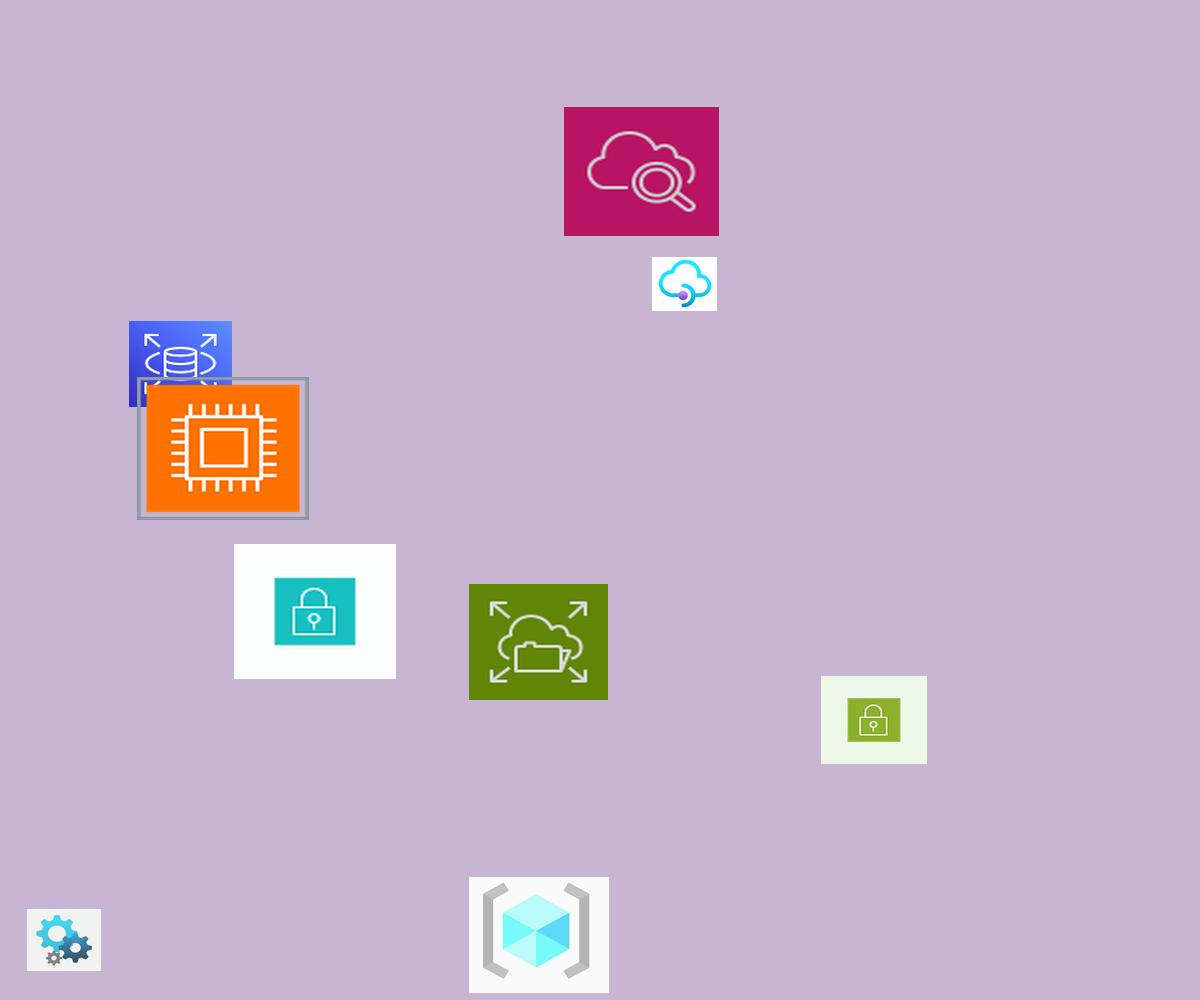AWS-Category_Compute: (137, 377, 309, 520)
AWS-CloudWatch: (564, 107, 719, 236)
AWS-EFS: (469, 584, 608, 700)
AWS-Private-subnet: (234, 544, 396, 679)
AWS-Public-subnet: (821, 676, 927, 764)
AWS-RDS: (129, 321, 232, 407)
Azure_api: (27, 909, 101, 971)
Azure_api_gateway: (652, 257, 717, 311)
Azure_resource_group: (469, 877, 609, 993)
